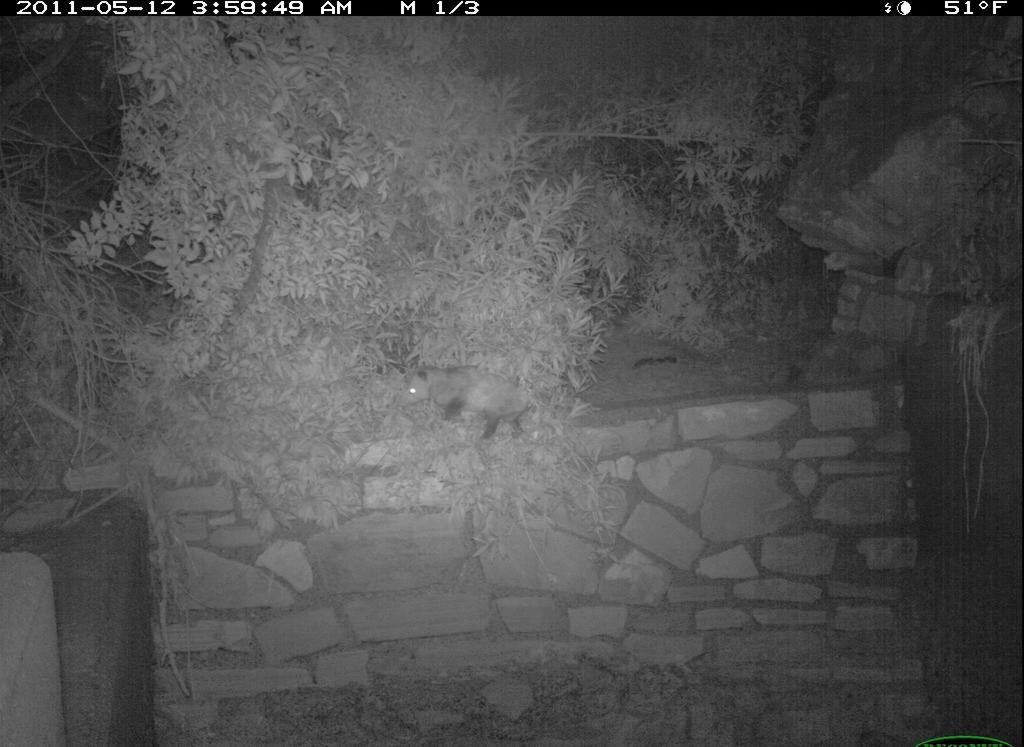opossum: (386, 356, 577, 449)
